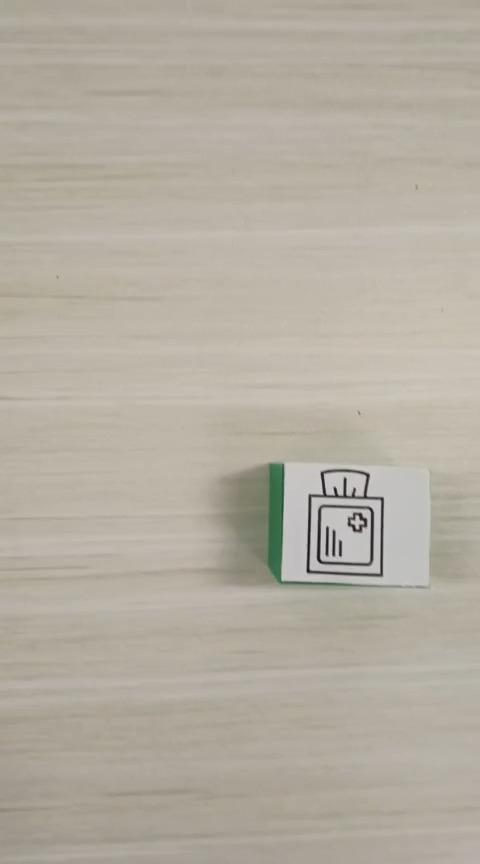Gauze: (266, 460, 431, 588)
